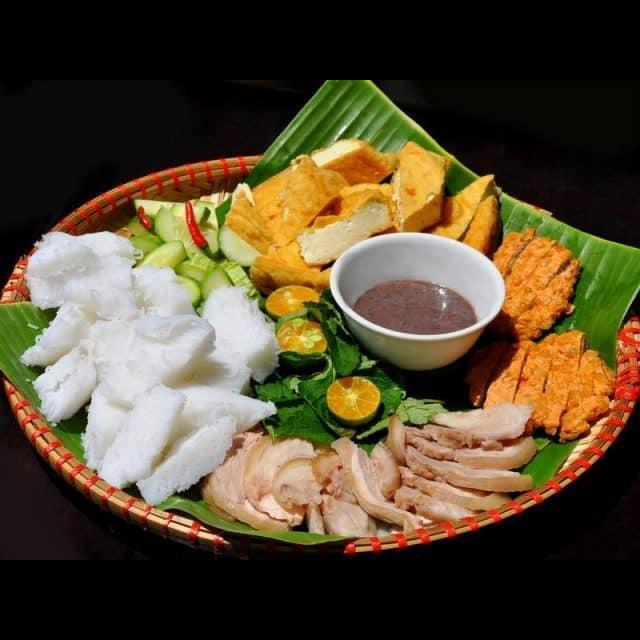bun: (19, 220, 295, 519)
bun dau: (6, 125, 640, 560)
cha com: (457, 323, 621, 453), (485, 223, 587, 350), (462, 192, 501, 254)
dau hu: (211, 133, 453, 299), (416, 169, 495, 244)
thit heo: (197, 395, 549, 544)
